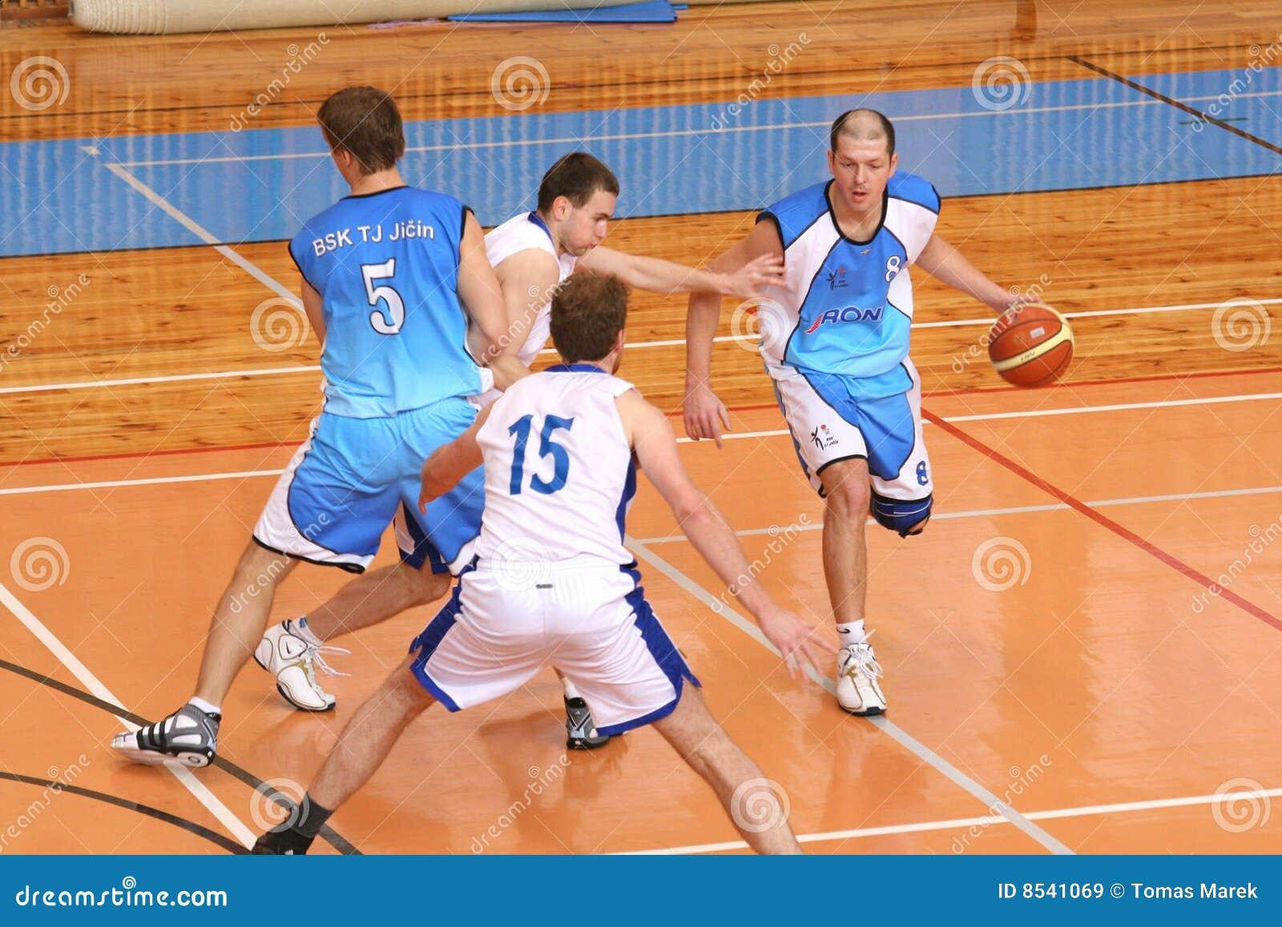basketball: (984, 295, 1078, 393)
